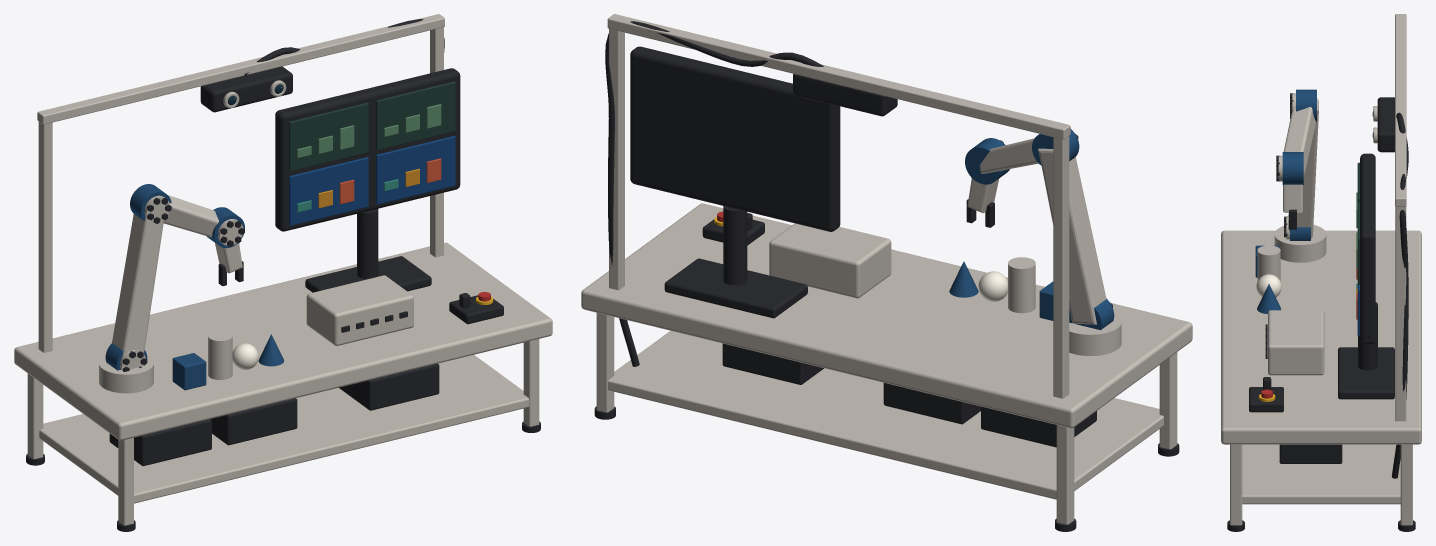
Rendered from anatomy-40.glb.
3 renders of one model, left to right at view 1: azimuth 30°, elevation 25°; view 2: azimuth 150°, elevation 25°; view 3: azimuth 270°, elevation 25°, orthographic. The views are drawn at different scales.
Visible parts, largest first — view 1: surface, rack, display, frame, arm, computer, objects, camera, controls, tool; view 2: surface, rack, display, frame, arm, computer, objects, wiring, camera, tool, controls; view 3: surface, rack, display, frame, arm, computer, objects, wiring, camera, controls, tool.
Part boxes in pixels (x1=…): surface: x1=14, y1=242, x2=552, y2=440; rack: x1=39, y1=355, x2=529, y2=503; display: x1=275, y1=68, x2=460, y2=292; frame: x1=26, y1=14, x2=540, y2=531; arm: x1=99, y1=184, x2=244, y2=393; computer: x1=306, y1=275, x2=413, y2=345; objects: x1=172, y1=330, x2=283, y2=390; camera: x1=200, y1=66, x2=292, y2=112; controls: x1=449, y1=292, x2=503, y2=324; tool: x1=215, y1=243, x2=243, y2=286; surface: x1=581, y1=203, x2=1192, y2=428; rack: x1=608, y1=331, x2=1163, y2=499; display: x1=630, y1=46, x2=840, y2=318; frame: x1=594, y1=14, x2=1179, y2=531; arm: x1=965, y1=128, x2=1121, y2=355; computer: x1=769, y1=223, x2=891, y2=298; objects: x1=949, y1=257, x2=1053, y2=320; wiring: x1=605, y1=21, x2=823, y2=366; camera: x1=793, y1=74, x2=897, y2=116; tool: x1=966, y1=178, x2=998, y2=227; controls: x1=702, y1=211, x2=764, y2=245; surface: x1=1221, y1=230, x2=1421, y2=444; rack: x1=1242, y1=444, x2=1400, y2=504; display: x1=1338, y1=153, x2=1394, y2=399; frame: x1=1227, y1=14, x2=1415, y2=531; arm: x1=1274, y1=89, x2=1326, y2=262; computer: x1=1265, y1=310, x2=1324, y2=375; objects: x1=1255, y1=245, x2=1281, y2=313; wiring: x1=1391, y1=112, x2=1408, y2=478; camera: x1=1372, y1=97, x2=1394, y2=152; controls: x1=1249, y1=377, x2=1283, y2=412; tool: x1=1283, y1=184, x2=1302, y2=229.
Bounding box in the file's own units: 3.15 × 2.47 × 1.34.
